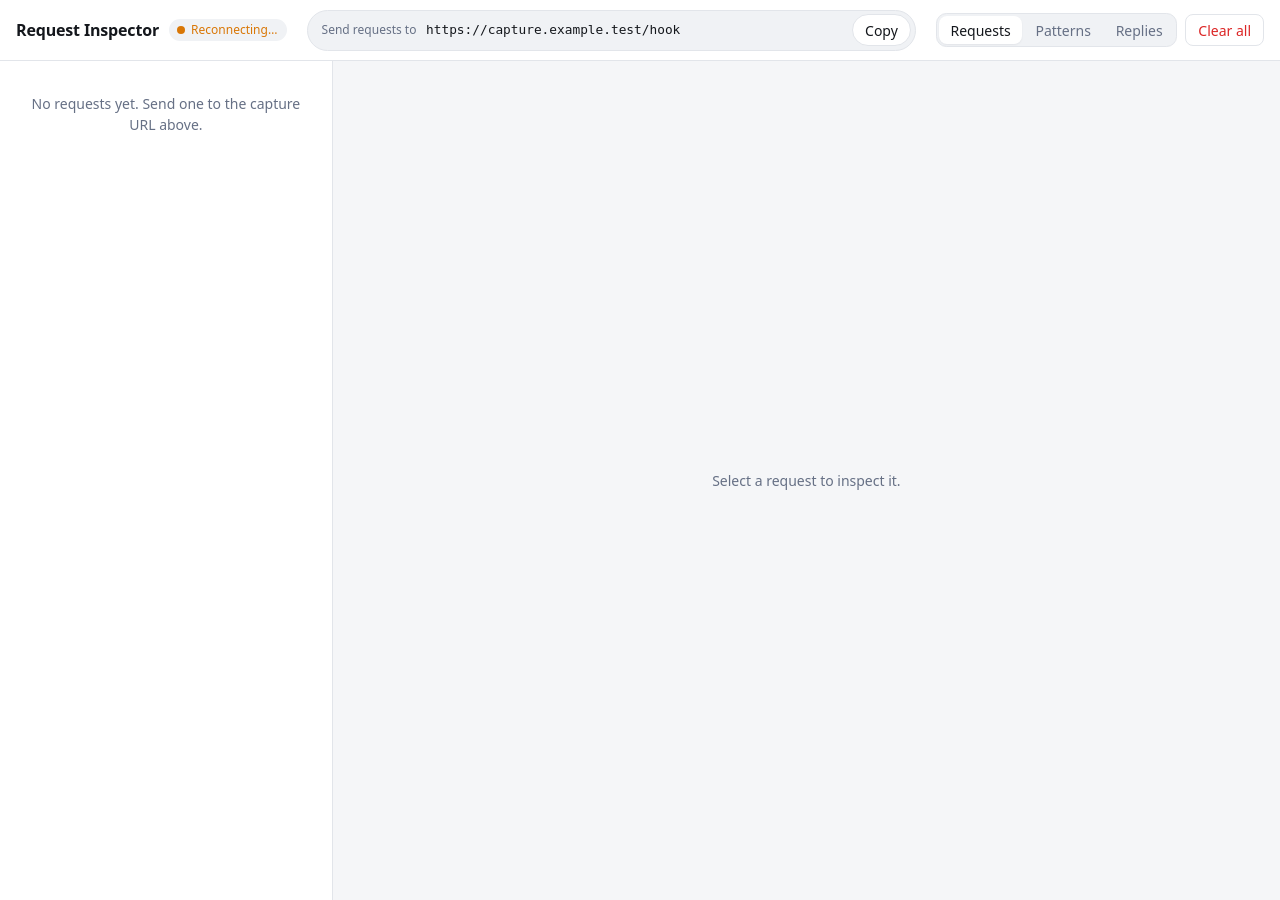
replies view › lists rules and explains how replies work
Click the tab "Replies": (1139, 30) [1104, 16, 1174, 44]
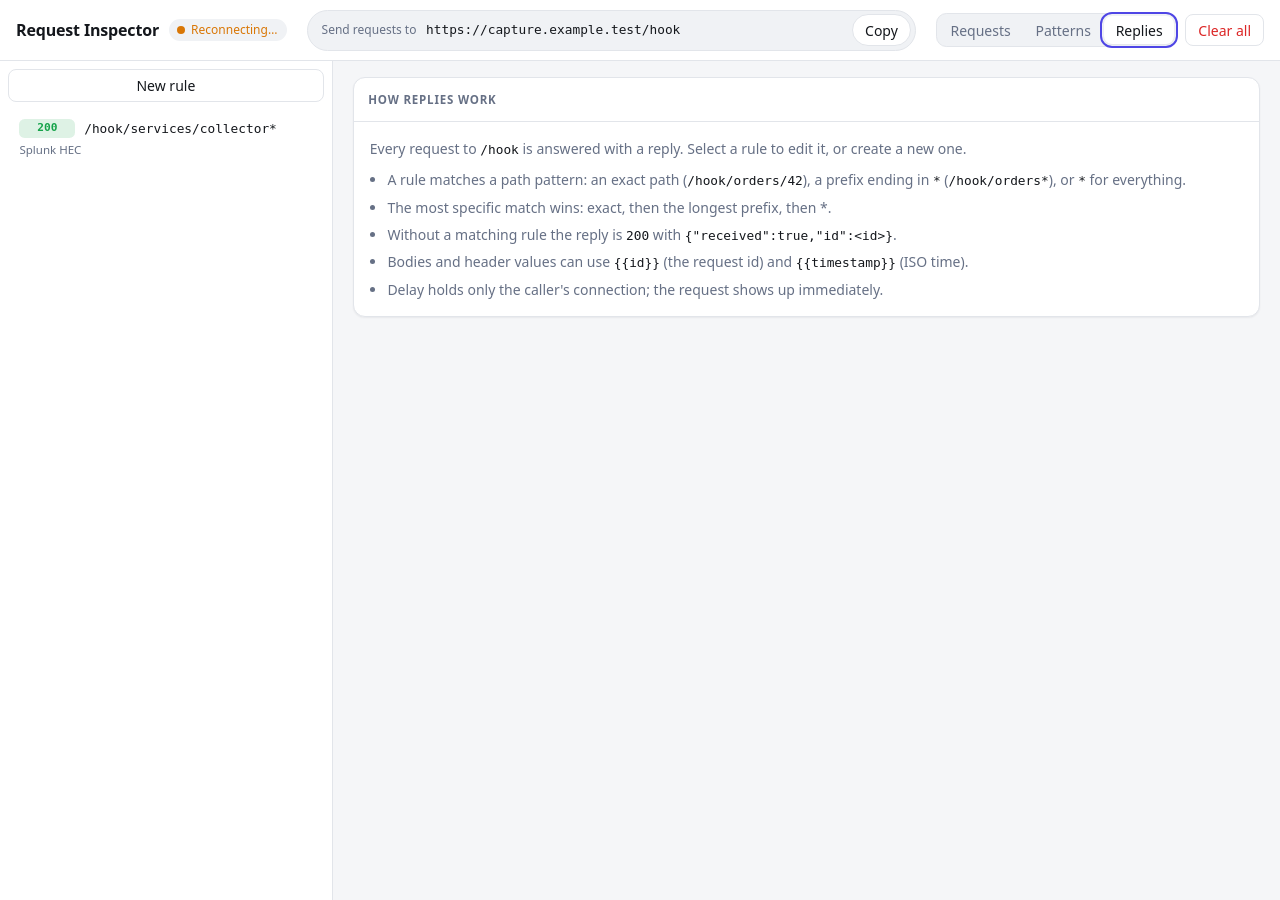
Result: the text "/hook/services/collector*" is shown at [84, 119, 277, 138]
Result: the text "Splunk HEC" is shown at [19, 141, 81, 158]
Result: the heading "How replies work" is shown at [368, 91, 497, 108]
